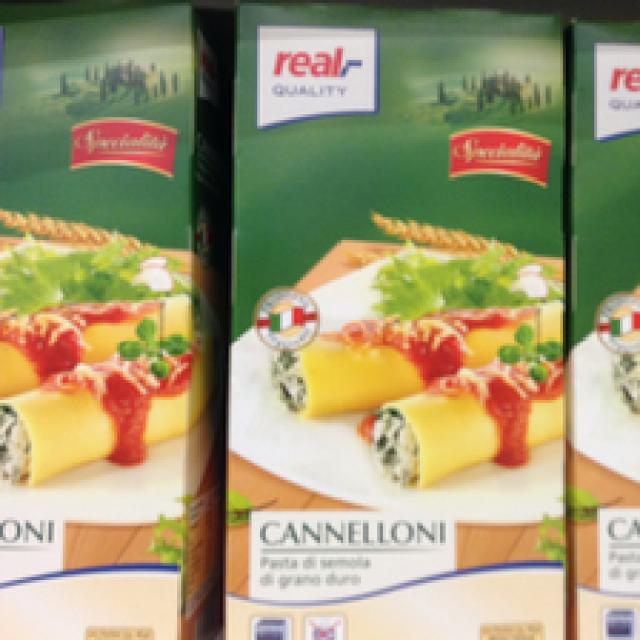groceries: (222, 0, 568, 634), (0, 0, 220, 637)
